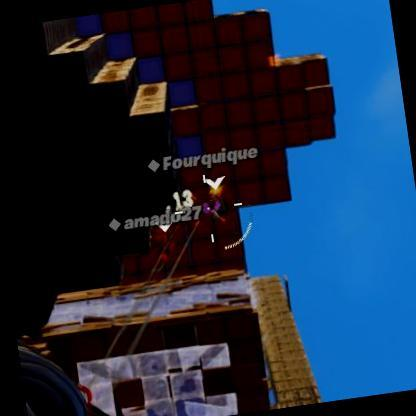person: (146, 220, 178, 286), (200, 179, 235, 239)
